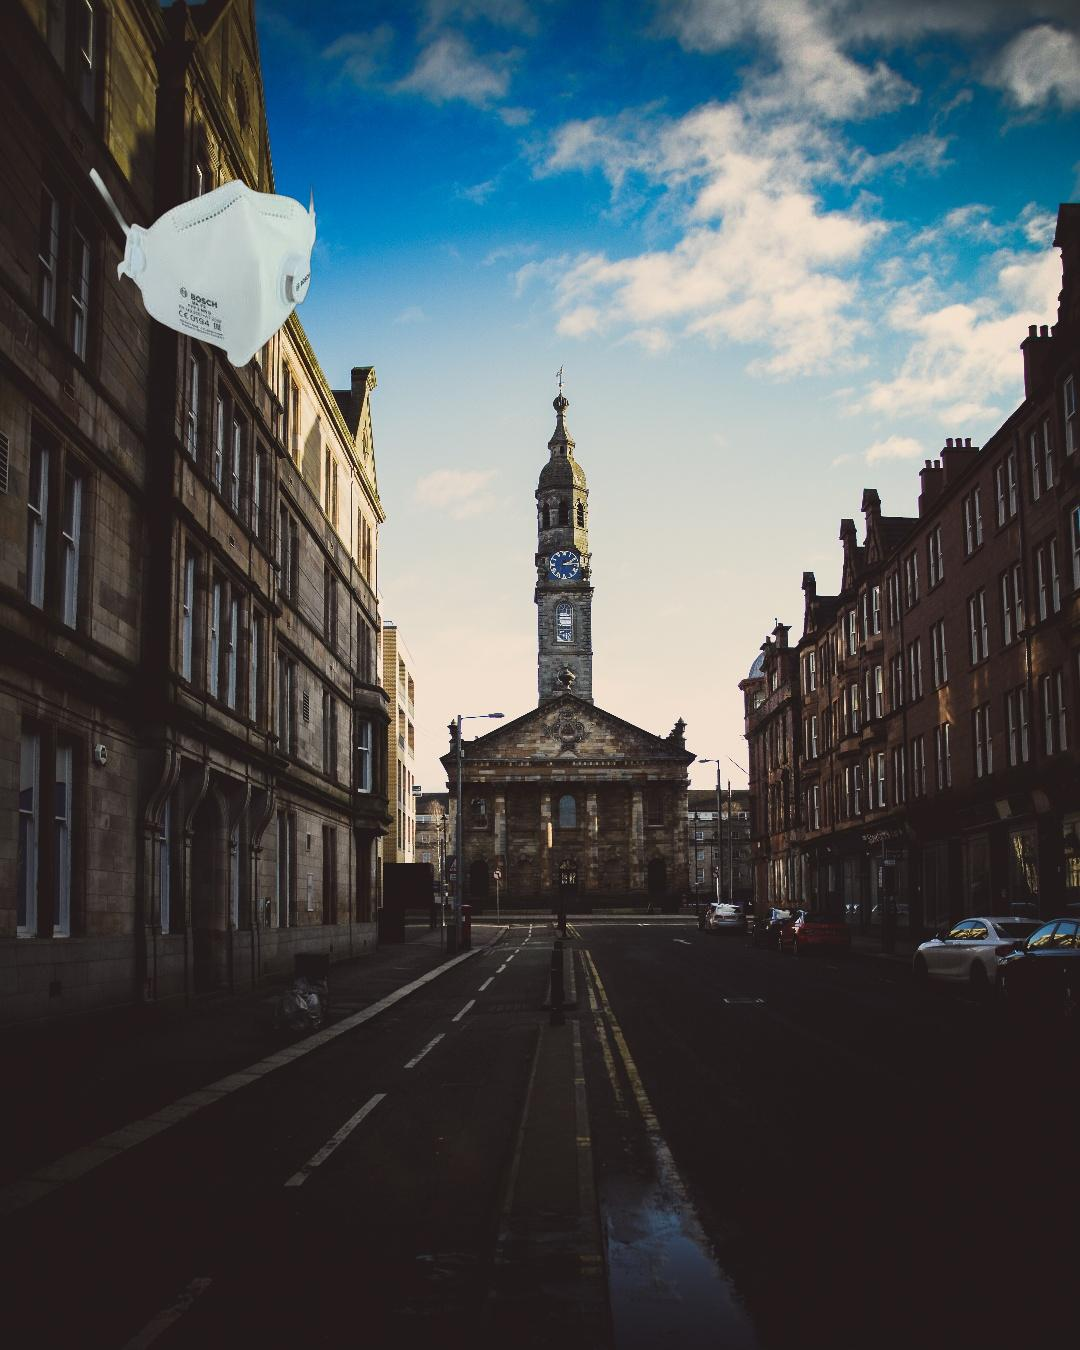trash: (83, 162, 318, 370)
